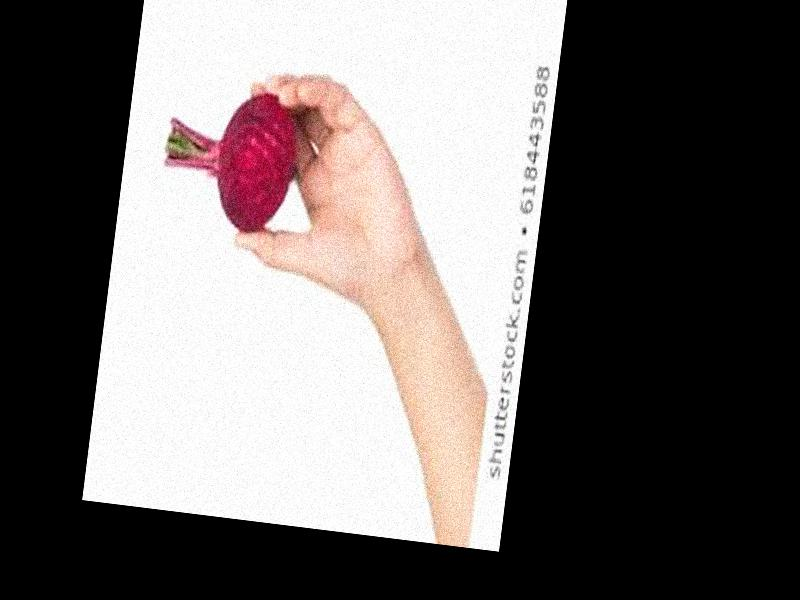Beet: (156, 78, 304, 236)
